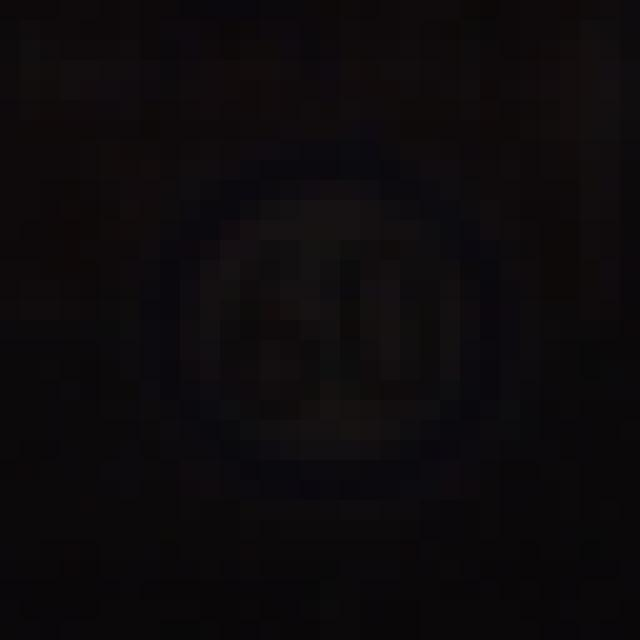SPEED-LIMIT-60: (180, 168, 492, 496)
